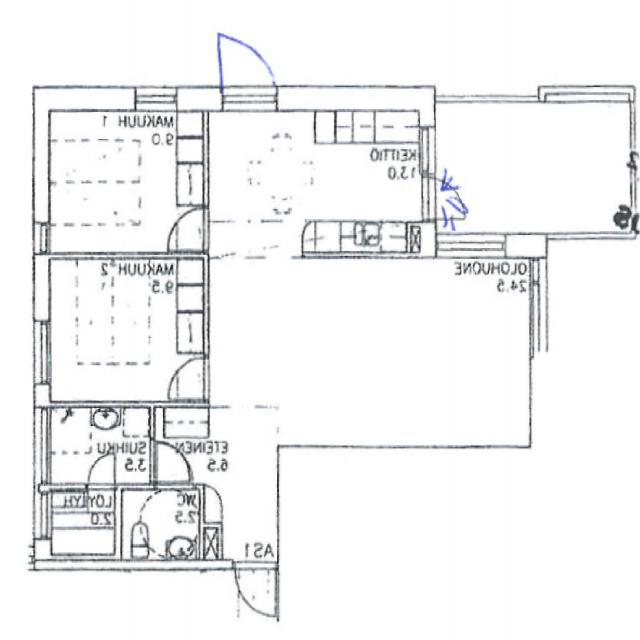door: (223, 24, 274, 111), (236, 560, 277, 618), (169, 357, 209, 400), (169, 209, 208, 252), (158, 442, 192, 489), (150, 442, 187, 481), (88, 452, 114, 489)
